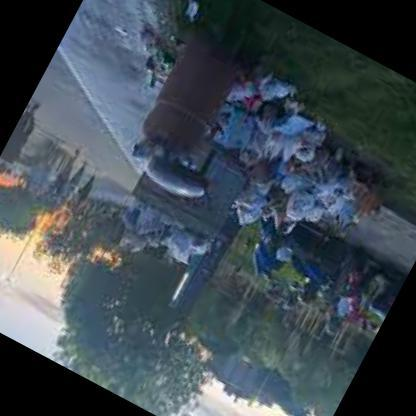Garbage: (110, 201, 210, 283), (221, 107, 304, 185), (245, 60, 313, 130), (284, 122, 350, 184), (210, 79, 263, 152), (120, 26, 179, 90), (312, 167, 366, 235), (276, 176, 329, 228), (228, 186, 278, 240), (159, 225, 198, 262), (174, 0, 219, 31), (114, 223, 151, 256), (129, 210, 164, 241), (128, 131, 158, 165)
